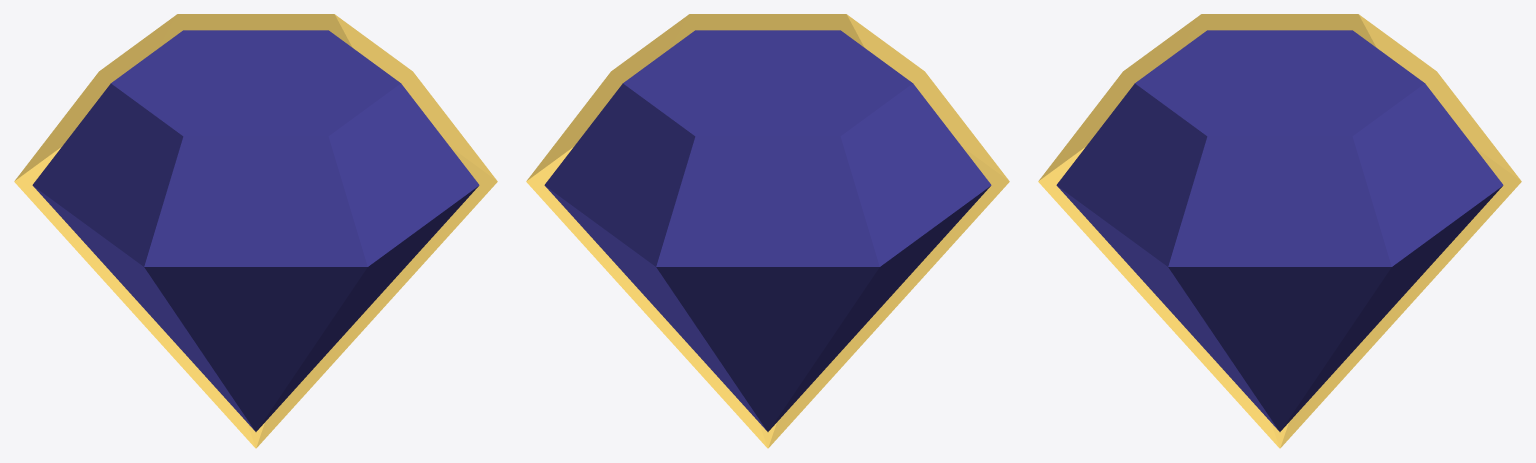
File: gemBlue.glb
3 views of the same model, side by side, from view 1: azimuth 30°, elevation 25°; view 2: azimuth 150°, elevation 25°; view 3: azimuth 270°, elevation 25° (orthographic).
Visible parts, largest first — view 1: GemBlueAnimated, GemBlueAnimatedOutline; view 2: GemBlueAnimated, GemBlueAnimatedOutline; view 3: GemBlueAnimated, GemBlueAnimatedOutline.
Part boxes in pixels (bbox=[...]): GemBlueAnimated: bbox=[32, 30, 479, 431]; GemBlueAnimatedOutline: bbox=[14, 14, 497, 448]; GemBlueAnimated: bbox=[544, 30, 991, 431]; GemBlueAnimatedOutline: bbox=[526, 14, 1009, 448]; GemBlueAnimated: bbox=[1056, 30, 1503, 431]; GemBlueAnimatedOutline: bbox=[1038, 14, 1521, 448].
Bounding box in the file's own units: 1.1 × 1.09 × 1.27.
2 materials, 2 textured.
